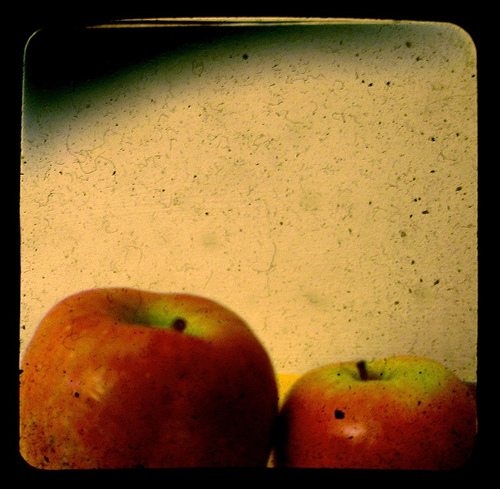apple: (8, 286, 280, 487), (270, 354, 479, 468)
